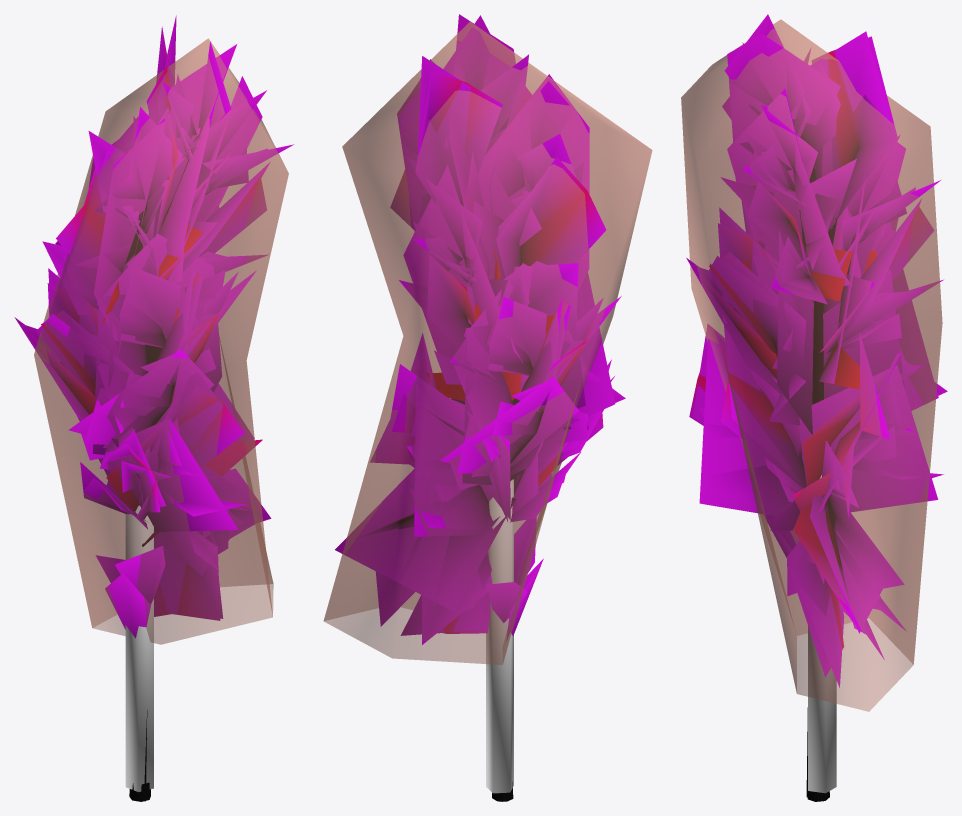
The model's file is tree_aspen_small_c.dae.
The picture shows the model from 3 angles, left to right: view 1: azimuth 30°, elevation 25°; view 2: azimuth 150°, elevation 25°; view 3: azimuth 270°, elevation 25°; orthographic projection. The views are drawn at different scales.
Parts seen in each view (by area): view 1: Colmesh_small03-1, Birch_Small_03_a300, Birch_Small_03_a600; view 2: Colmesh_small03-1, Birch_Small_03_a300, Birch_Small_03_a600; view 3: Colmesh_small03-1, Birch_Small_03_a300, Birch_Small_03_a600.
Boxes of the visible parts, x1,y1,x2,y2 form: Colmesh_small03-1: (34,38,288,792); Birch_Small_03_a300: (14,15,294,801); Birch_Small_03_a600: (19,26,269,801); Colmesh_small03-1: (323,21,652,793); Birch_Small_03_a300: (335,14,621,801); Birch_Small_03_a600: (358,15,625,801); Colmesh_small03-1: (681,19,942,793); Birch_Small_03_a300: (686,31,943,801); Birch_Small_03_a600: (689,14,947,801).
Bounding box in the file's own units: 2.67 × 2.23 × 7.44.
